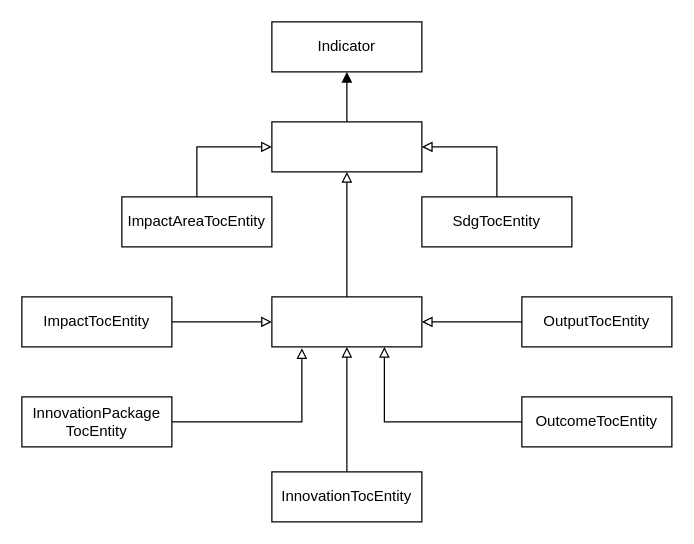
Image size: 694x544. Some labels were removed from this diagram. The shapes that lost their labels are listed below. From the top down, each one's centre as x and y in pixels, then its label:
At point (346, 146): "TOC Element".
At point (346, 321): "ResultTocEntity".
